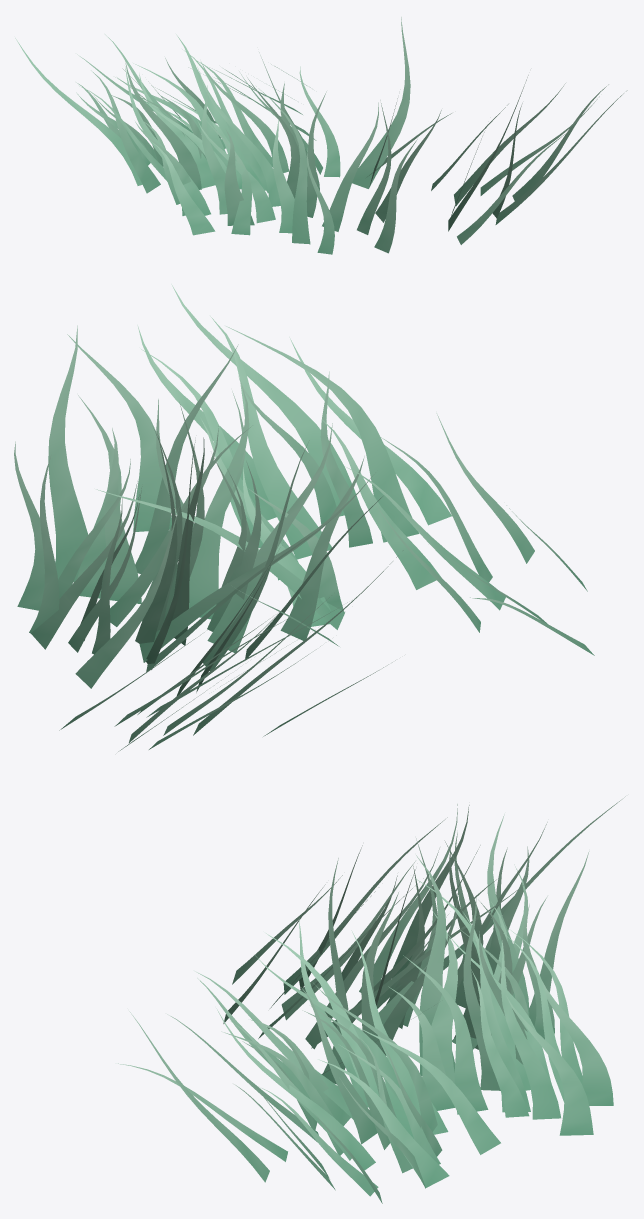
Rendered from mesh-plant-011-emerald-tuft_LOD0.glb.
The picture shows the model from 3 angles, top to bottom: view 1: azimuth 30°, elevation 25°; view 2: azimuth 150°, elevation 25°; view 3: azimuth 270°, elevation 25°; orthographic projection. The views are drawn at different scales.
Visible parts, largest first — view 1: geometry_0; view 2: geometry_0; view 3: geometry_0.
Part boxes in pixels (x1=…): geometry_0: x1=15, y1=17, x2=627, y2=254; geometry_0: x1=14, y1=284, x2=594, y2=751; geometry_0: x1=118, y1=796, x2=625, y2=1203.
Size of the model in its own units: 1.36 by 0.3757 by 1.19.
